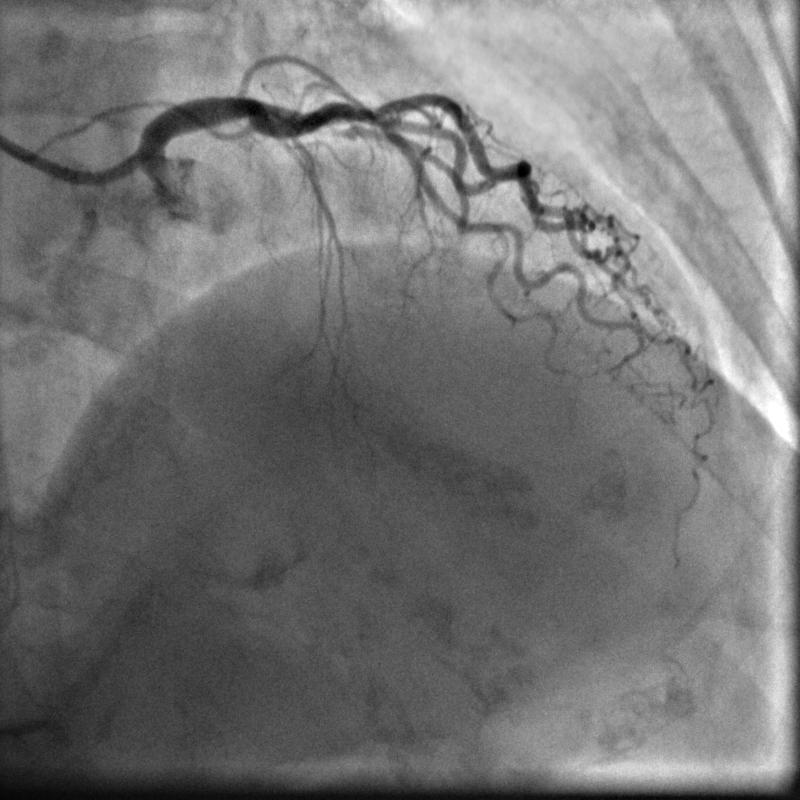Stenosis: (332, 122, 367, 137)
